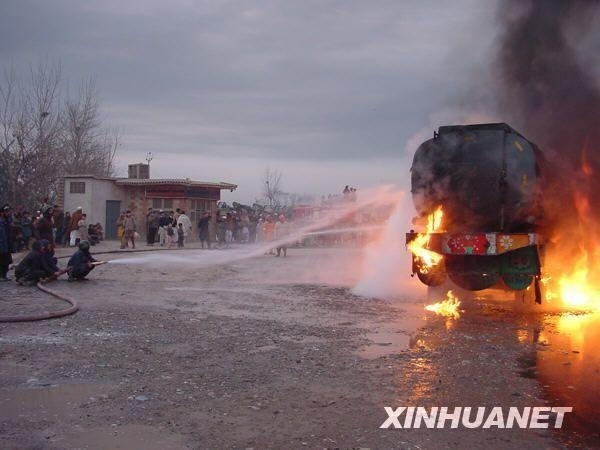fire: (551, 252, 600, 314), (406, 204, 445, 271), (423, 291, 461, 319)
